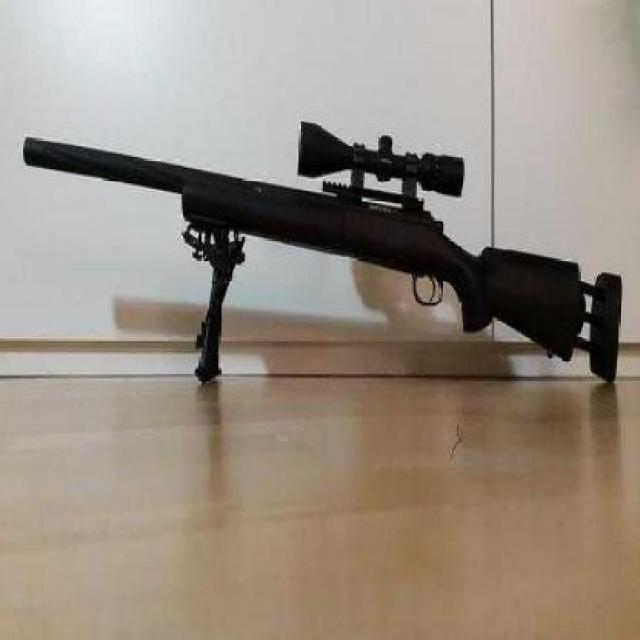weapon: (26, 126, 627, 392)
